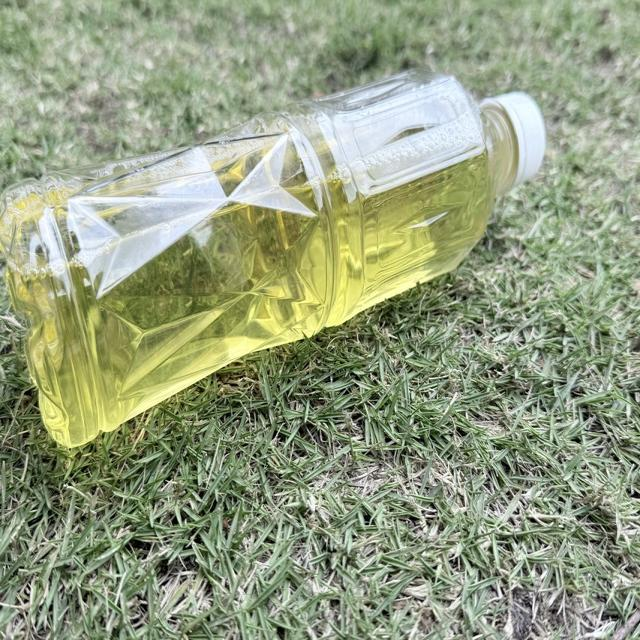high: (0, 71, 545, 446)
